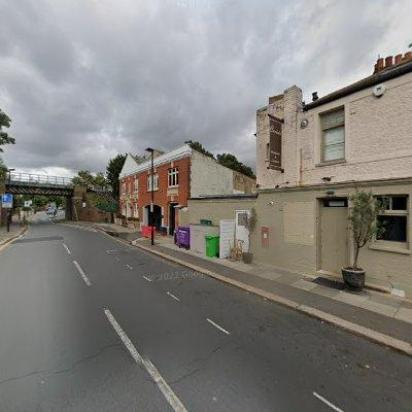stationary-car-onstreet: (45, 206, 57, 216)
